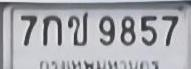5: (140, 15, 156, 45)
7: (20, 14, 36, 45), (161, 15, 177, 45)
8: (120, 15, 135, 45)
9: (98, 15, 114, 45)
A01: (42, 14, 61, 45)
A10: (67, 11, 87, 45)
